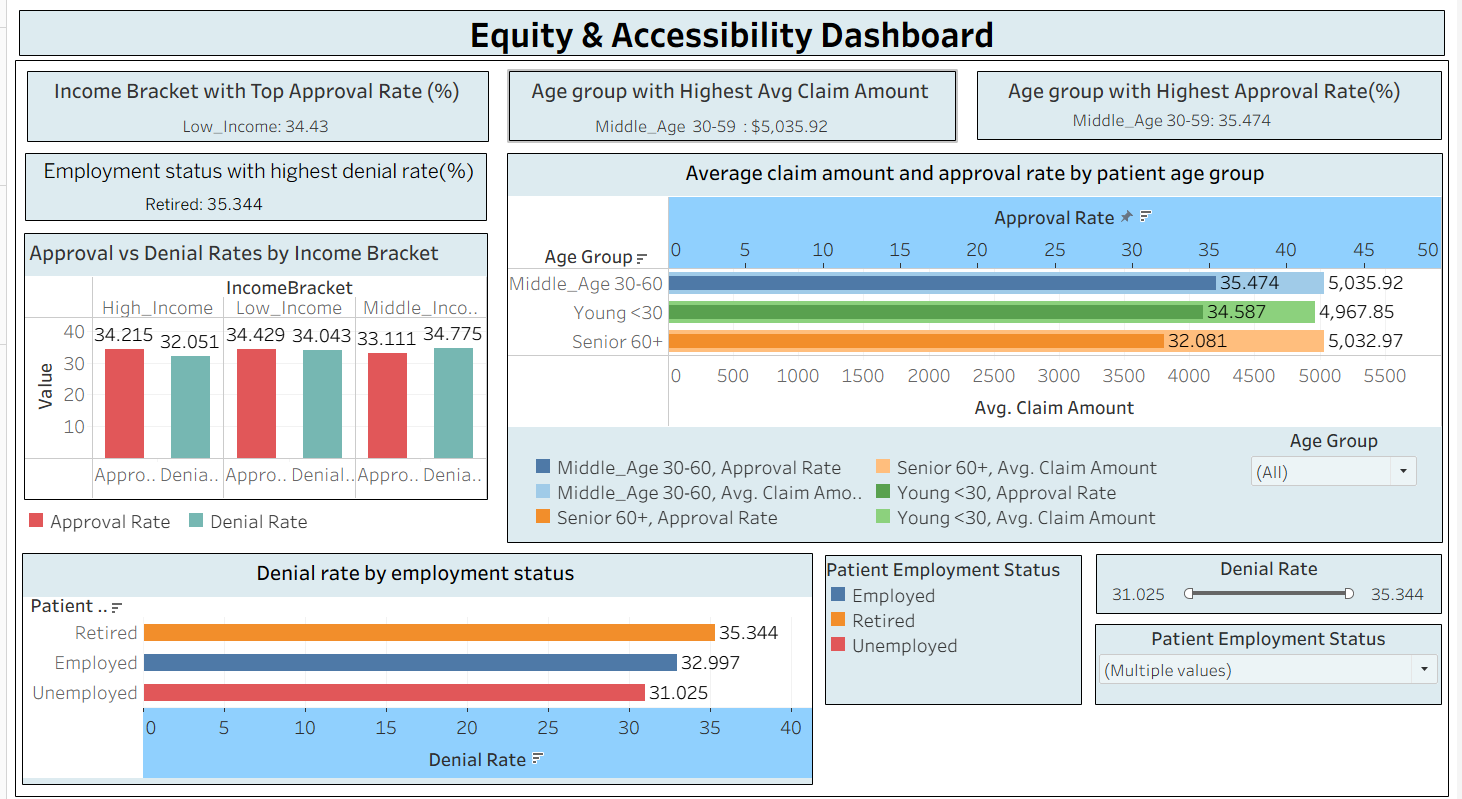

This screenshot's page, from the dashboard's own definition file:
{"tool":"tableau","page":{"name":"Dashboard 4: Equity & Accessibility","canvas":[1000,1000],"units":"permille","ordinal":3},"visuals":[{"type":"title","box":[5.5,9.9,989,66.9]},{"type":"worksheet","title":"KPI - Income Bracket with Top Approval Rate (2)","mark":"Automatic","box":[14.1,90.5,318.5,88]},{"type":"worksheet","title":"KPI- Agegroup with Highest Avg Claim Amount-2","mark":"Automatic","box":[346.2,90.5,308.3,86.7]},{"type":"worksheet","title":"KPI- Agegroup with Highest Approval Rate-2 (2)","mark":"Automatic","box":[669,90.5,320.7,85.5]},{"type":"worksheet","title":"KPI: Employment status with highest denial rate. (2)","mark":"Automatic","box":[12.4,192.1,318.6,84.3]},{"type":"worksheet","title":"Q2: average claim amount and approval rate by patient age group?","mark":"Bar","rows":["Calculation_1241404985065472"],"cols":["ClaimAmount","Calculation_1241405013393410"],"box":[344.8,192.1,645.5,483.3]},{"type":"worksheet","title":"Q1: Approval vs Denal Rates by Income Bracket","mark":"Automatic","cols":["Calculation_1241404987092993"],"box":[11.7,291.2,320,330.9]},{"type":"filter","title":"Q2: average claim amount and approval rate by patient age group?","param":"[federated.0q41bvh03h9eb41fq89sx0d0920t].[none:Calculation_1241404985065472:nk]","box":[855.6,531.6,118.5,132.6]},{"type":"legend","title":"Q2: average claim amount and approval rate by patient age group?","param":"[federated.0q41bvh03h9eb41fq89sx0d0920t].[none:Calculation_1241404985065472:nk]\n","box":[361.5,565.1,540,111.5]},{"type":"legend","title":"Q1: Approval vs Denal Rates by Income Bracket","param":"[federated.0q41bvh03h9eb41fq89sx0d0920t].[:Measure Names]","box":[11.7,632,228.3,47.1]},{"type":"worksheet","title":"Q3:denial rate by employment status (employed, unemployed, retired).","mark":"Automatic","rows":["PatientEmploymentStatus"],"cols":["Calculation_1241405014687747"],"box":[10.3,687.7,545.5,287.5]},{"type":"filter","title":"Q3:denial rate by employment status (employed, unemployed, retired).","param":"[federated.0q41bvh03h9eb41fq89sx0d0920t].[usr:Calculation_1241405014687747:qk]","box":[751,689,238.6,74.4]},{"type":"legend","title":"Q3:denial rate by employment status (employed, unemployed, retired).","param":"[federated.0q41bvh03h9eb41fq89sx0d0920t].[none:PatientEmploymentStatus:nk]","box":[564.1,690.2,177.2,185.9]},{"type":"filter","title":"Q3:denial rate by employment status (employed, unemployed, retired).","param":"[federated.0q41bvh03h9eb41fq89sx0d0920t].[none:PatientEmploymentStatus:nk]","box":[750.3,775.7,239.3,100.4]}]}

Visuals, with their boxes on the dashboard's canvas, which has no fixed pixel size, in thousandths of its width and height (x1, y1, x2, y2). These are canvas units, not pixel positions in the 1462x799 screenshot, which may show the page scaled, cropped or inside an application window:
title: rect(6, 10, 994, 77)
"KPI - Income Bracket with Top Approval Rate (2)" worksheet: rect(14, 90, 333, 178)
"KPI- Agegroup with Highest Avg Claim Amount-2" worksheet: rect(346, 90, 654, 177)
"KPI- Agegroup with Highest Approval Rate-2 (2)" worksheet: rect(669, 90, 990, 176)
"KPI: Employment status with highest denial rate. (2)" worksheet: rect(12, 192, 331, 276)
"Q2: average claim amount and approval rate by patient age group?" worksheet (Bar marks): rect(345, 192, 990, 675)
"Q1: Approval vs Denal Rates by Income Bracket" worksheet: rect(12, 291, 332, 622)
"Q2: average claim amount and approval rate by patient age group?" filter: rect(856, 532, 974, 664)
"Q2: average claim amount and approval rate by patient age group?" legend: rect(362, 565, 902, 677)
"Q1: Approval vs Denal Rates by Income Bracket" legend: rect(12, 632, 240, 679)
"Q3:denial rate by employment status (employed, unemployed, retired)." worksheet: rect(10, 688, 556, 975)
"Q3:denial rate by employment status (employed, unemployed, retired)." filter: rect(751, 689, 990, 763)
"Q3:denial rate by employment status (employed, unemployed, retired)." legend: rect(564, 690, 741, 876)
"Q3:denial rate by employment status (employed, unemployed, retired)." filter: rect(750, 776, 990, 876)
